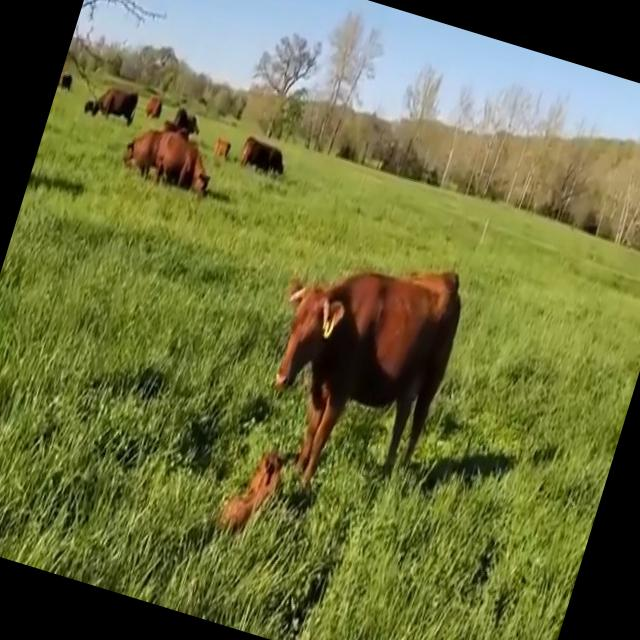cow: (275, 271, 460, 484), (124, 129, 209, 192), (242, 136, 283, 174)
